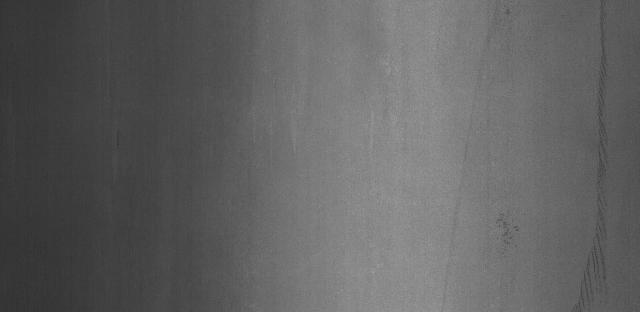water_spot: (571, 4, 623, 310), (488, 203, 529, 264)
